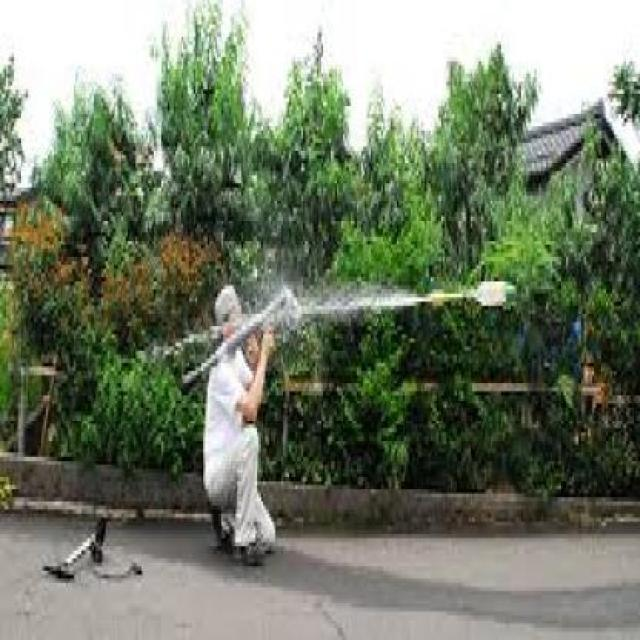weapon: (160, 262, 311, 398)
